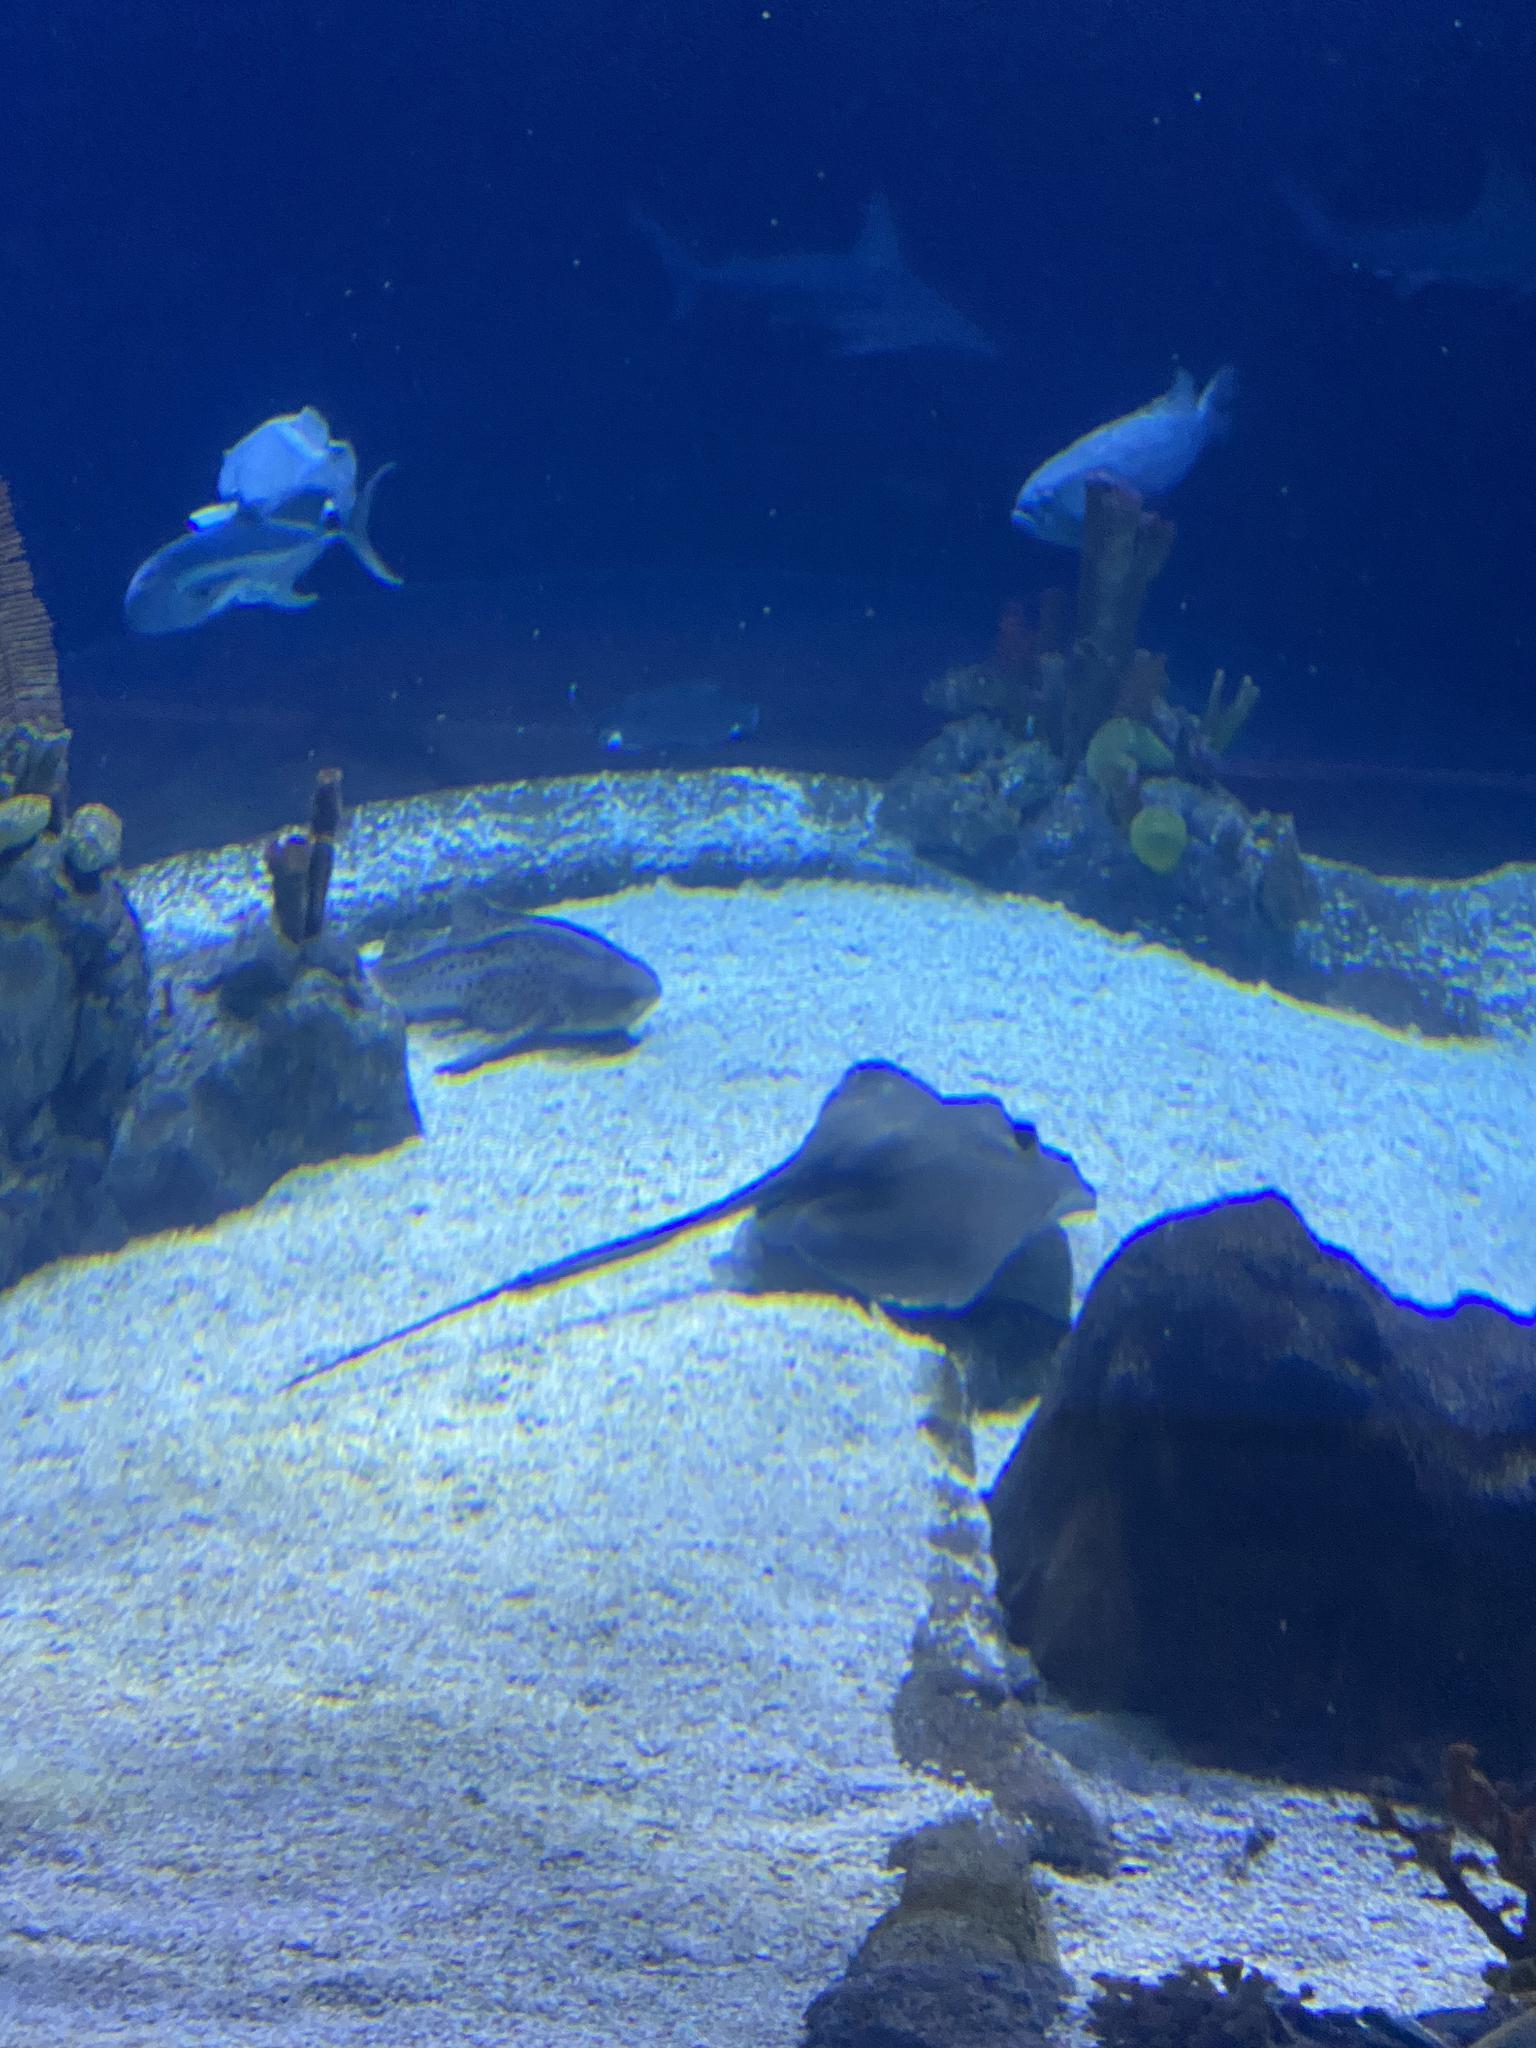fish: (337, 906, 665, 1047), (1012, 376, 1249, 539), (103, 511, 411, 622), (195, 413, 382, 519)
shark: (670, 216, 992, 363)
stingray: (744, 1056, 1096, 1305)
